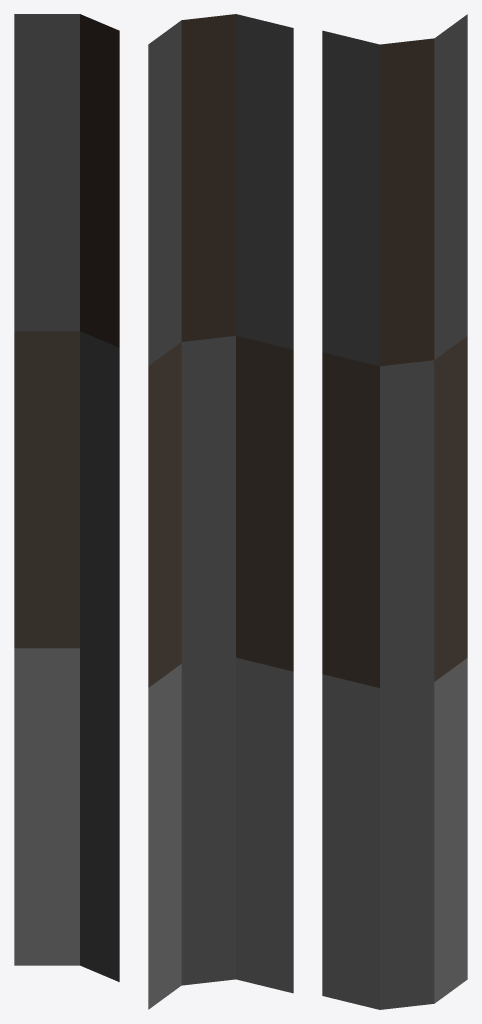
The model's file is Inner_Corner_Wall.obj.
The picture shows the model from 3 angles, left to right: view 1: azimuth 90°, elevation 25°; view 2: azimuth 150°, elevation 25°; view 3: azimuth 330°, elevation 25°; orthographic projection.
Parts seen in each view (by area): view 1: Inner_Corner_Wall; view 2: Inner_Corner_Wall; view 3: Inner_Corner_Wall.
Part boxes in pixels (x1,y1,x2,y2): Inner_Corner_Wall: [14, 14, 119, 981]; Inner_Corner_Wall: [148, 14, 293, 1009]; Inner_Corner_Wall: [322, 14, 467, 1009].
Bounding box in the file's own units: 0.1 × 1 × 0.1.
